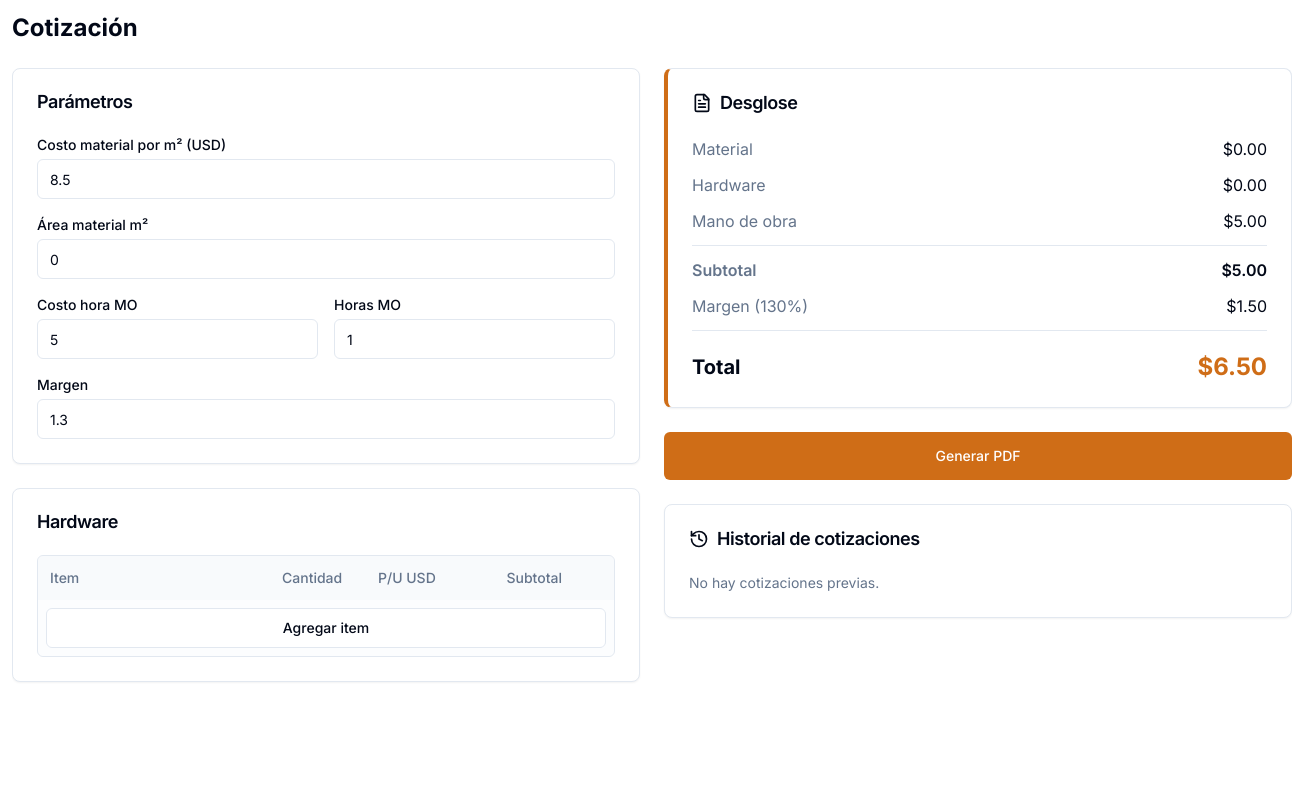
Test case: QuotePage › recalculates total when hardware is added
Click the button "Agregar item" at [326, 628], box [46,608,606,648]
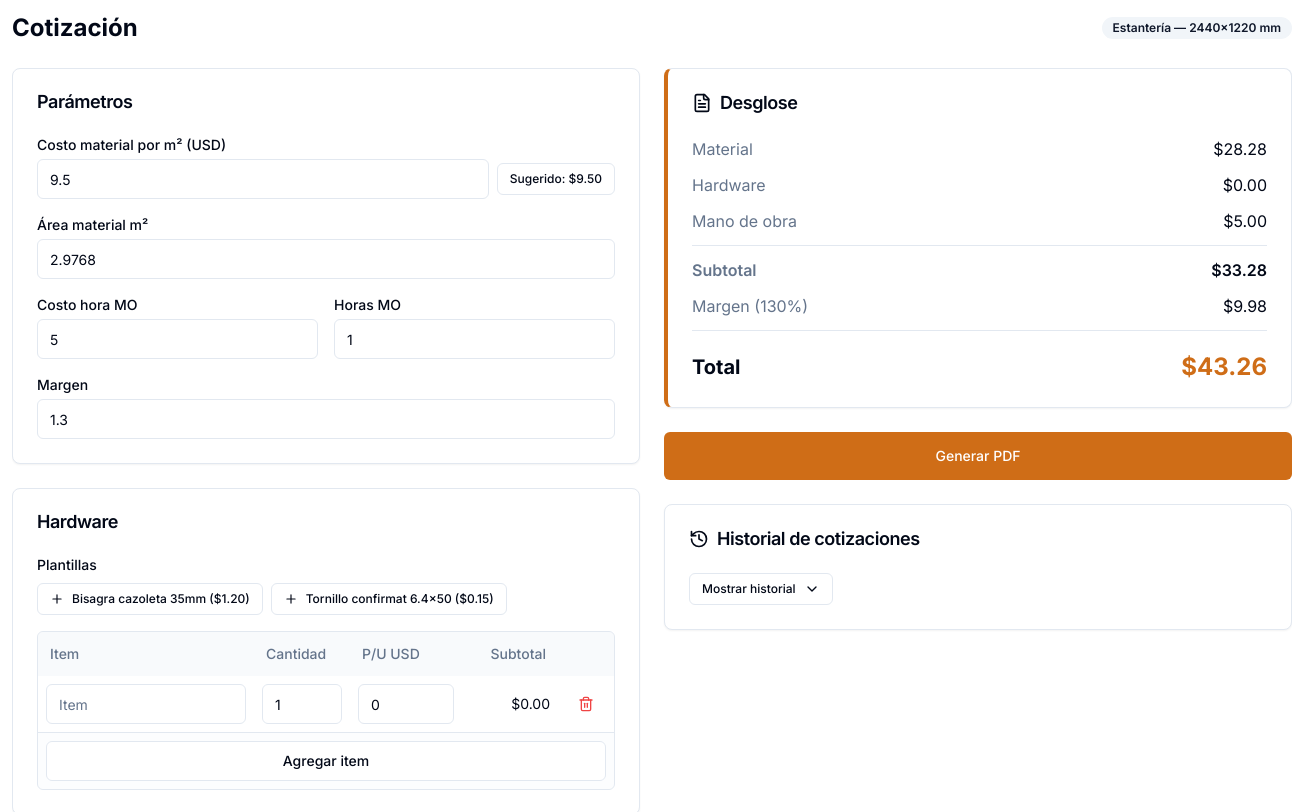
Type "Tornillo" into the field with placeholder "Item" at [146, 704], box [46,684,246,724]
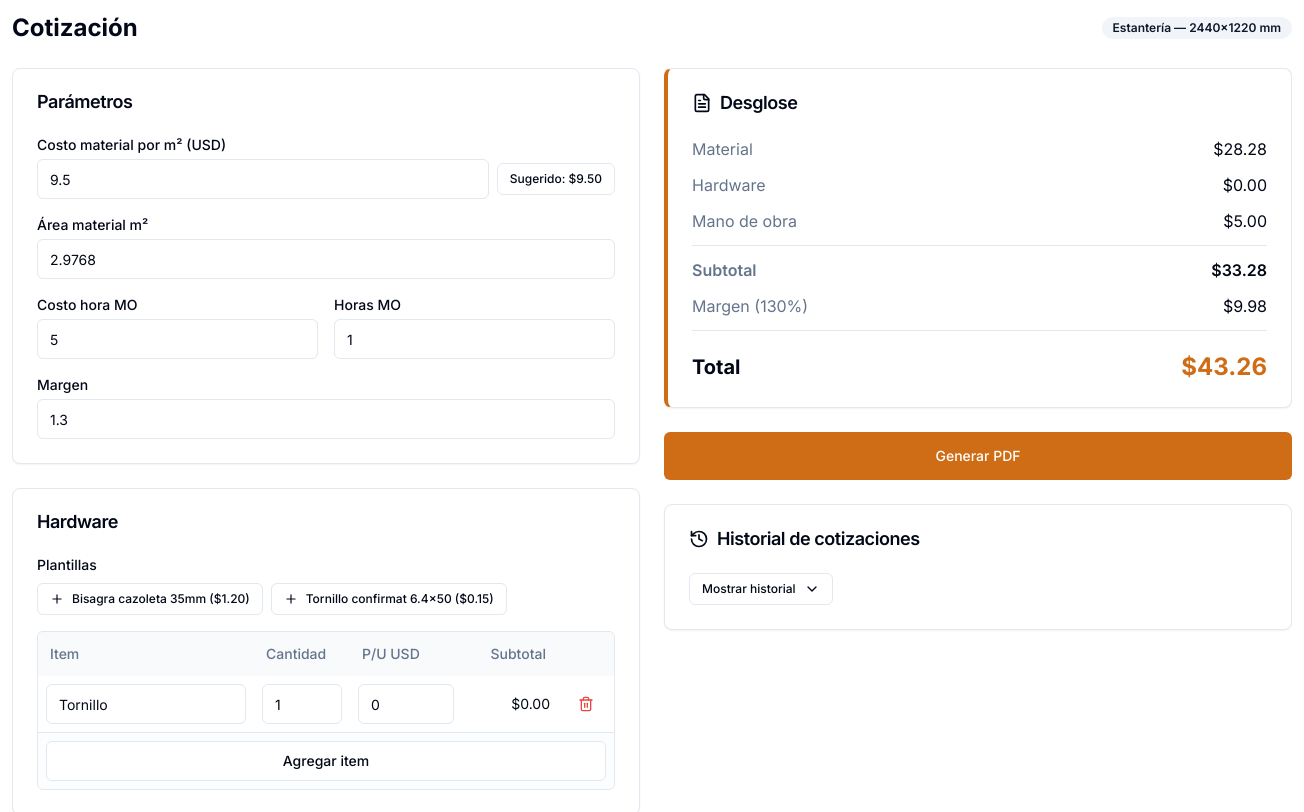
Replace the text in the number field showing "1" with "10" at [302, 704], box [262,684,342,724]
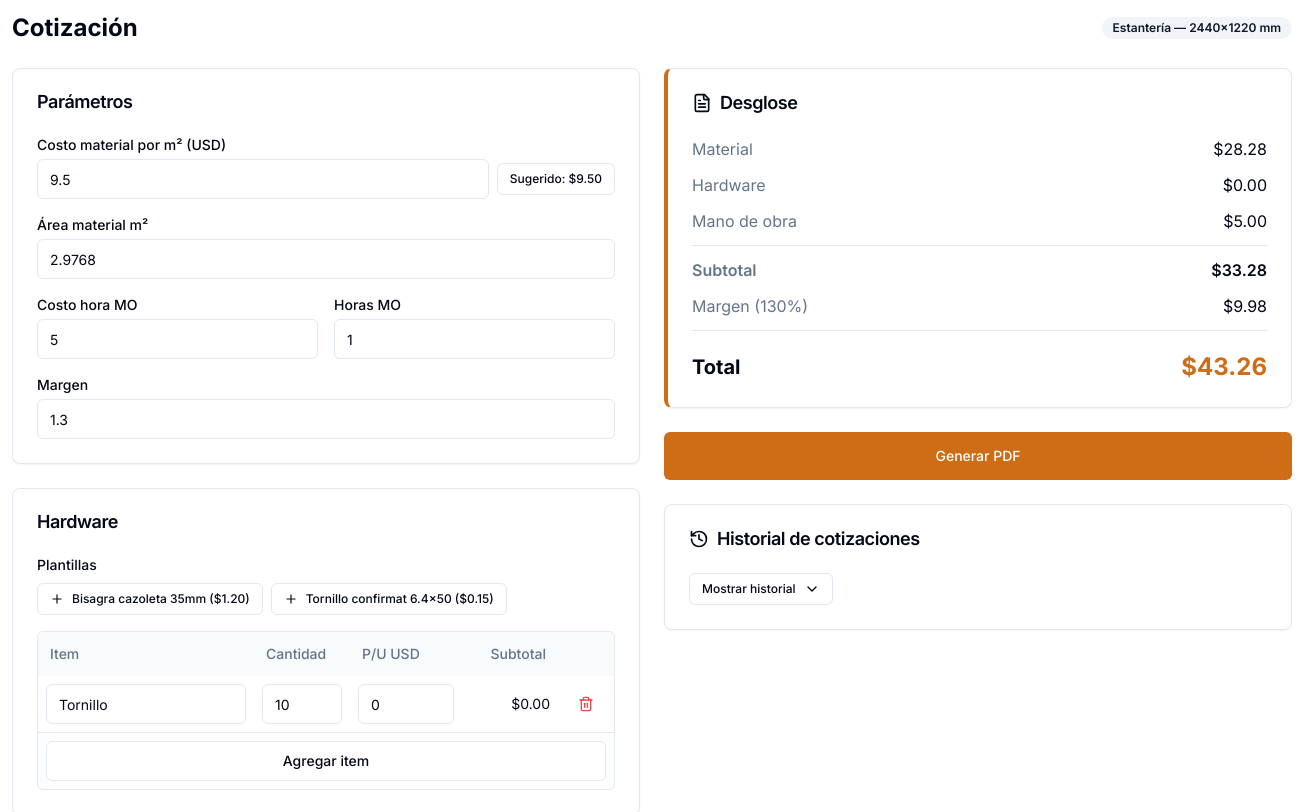
Replace the text in the number field showing "0" with "0.5" at [406, 704], box [358,684,454,724]
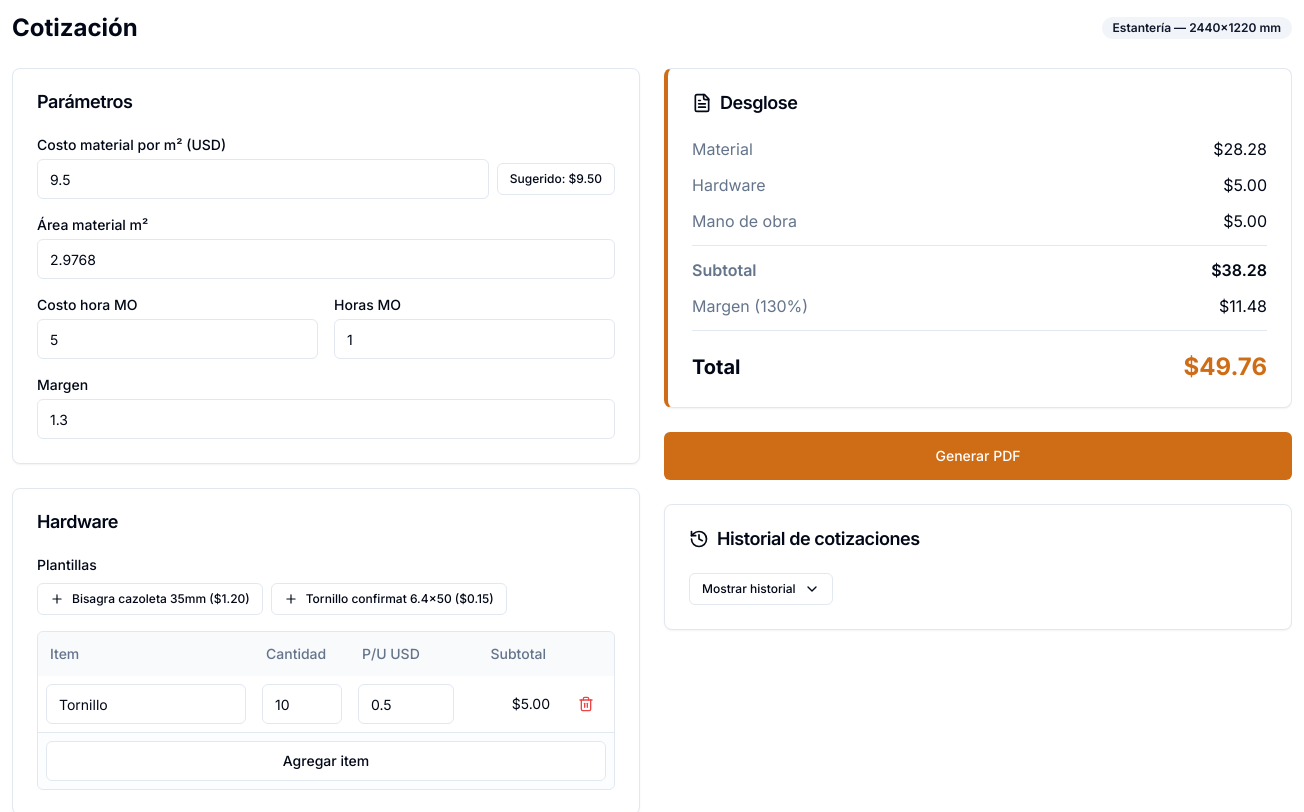
Check: the text "$5.00" is shown, box [462,676,558,732]
